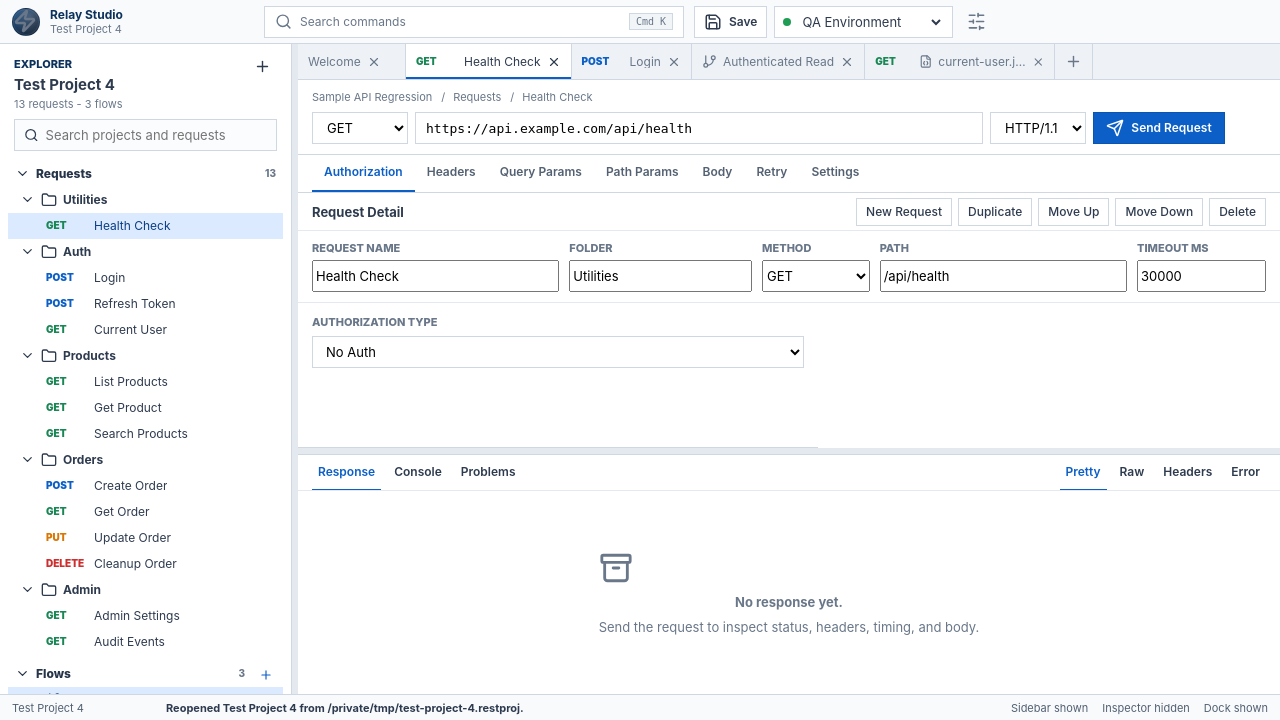
it: Relay Studio native shell commands › opens the dirty-work prompt from the native close-request hook
Replace the text in the field named "Request URL" with "https://api.test.local/v1/orders?status=open" at (699, 128), box [415, 112, 983, 144]
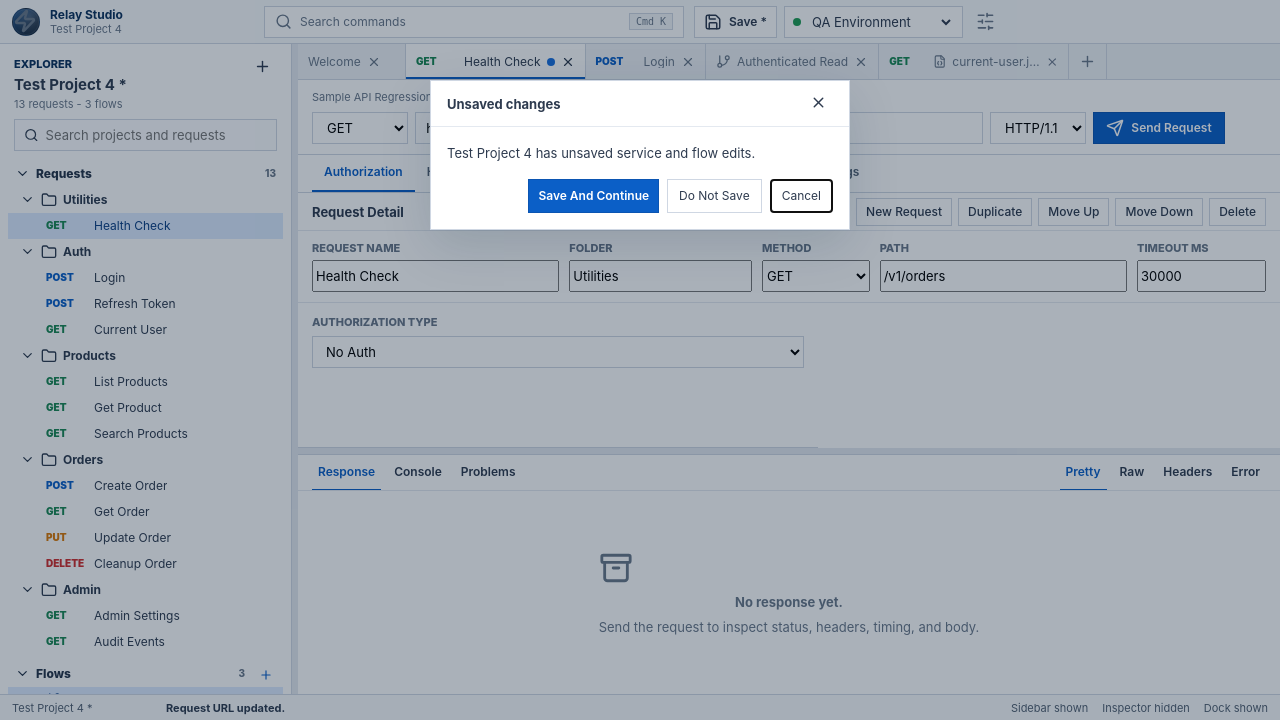
Check: the dialog "Unsaved changes" is shown, box [430, 80, 850, 230]
Click the button "Cancel" at (801, 196), box [770, 179, 833, 213]
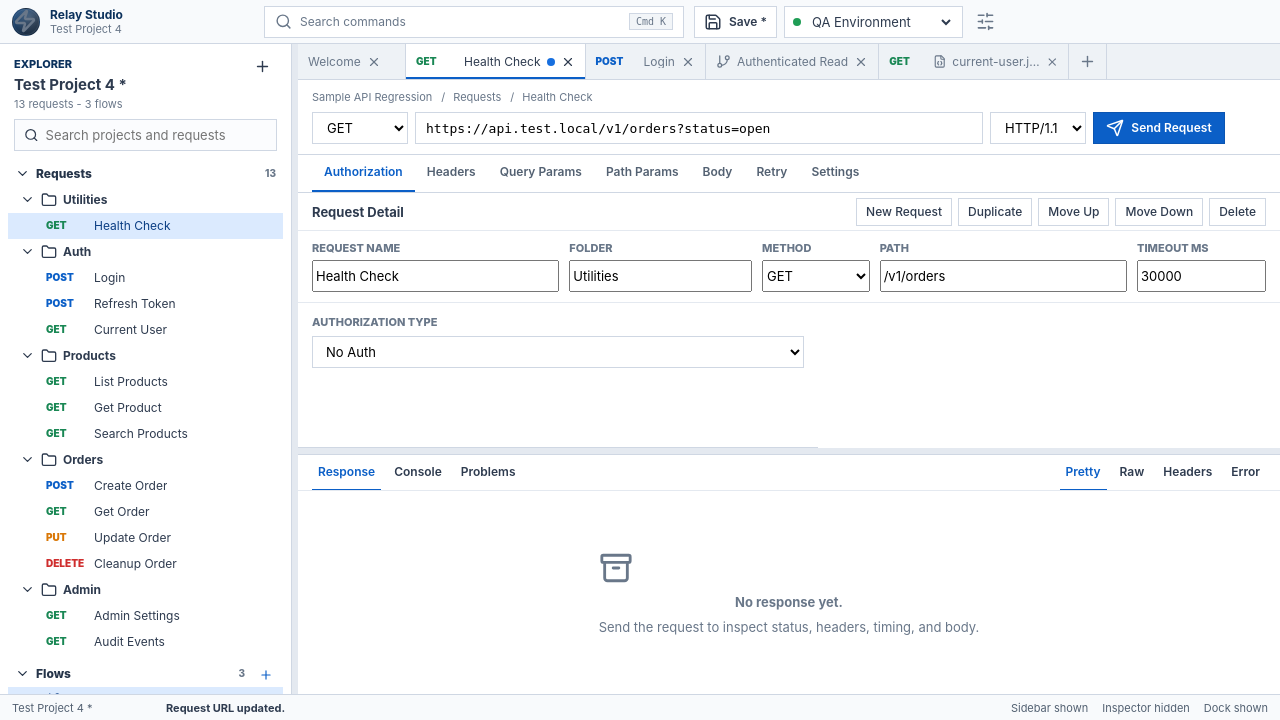
Check: the text "Unsaved changes" is gone
